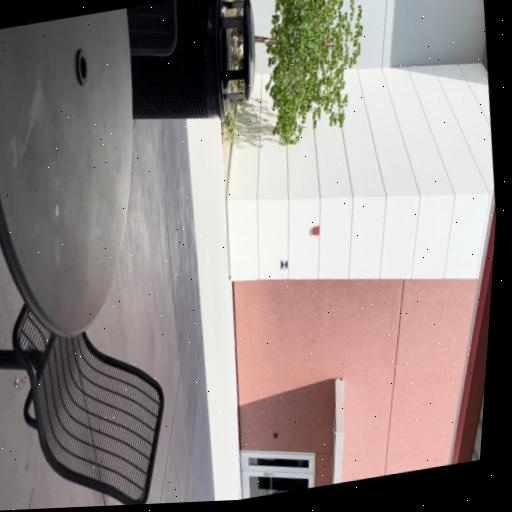target9: (281, 259, 288, 270)
